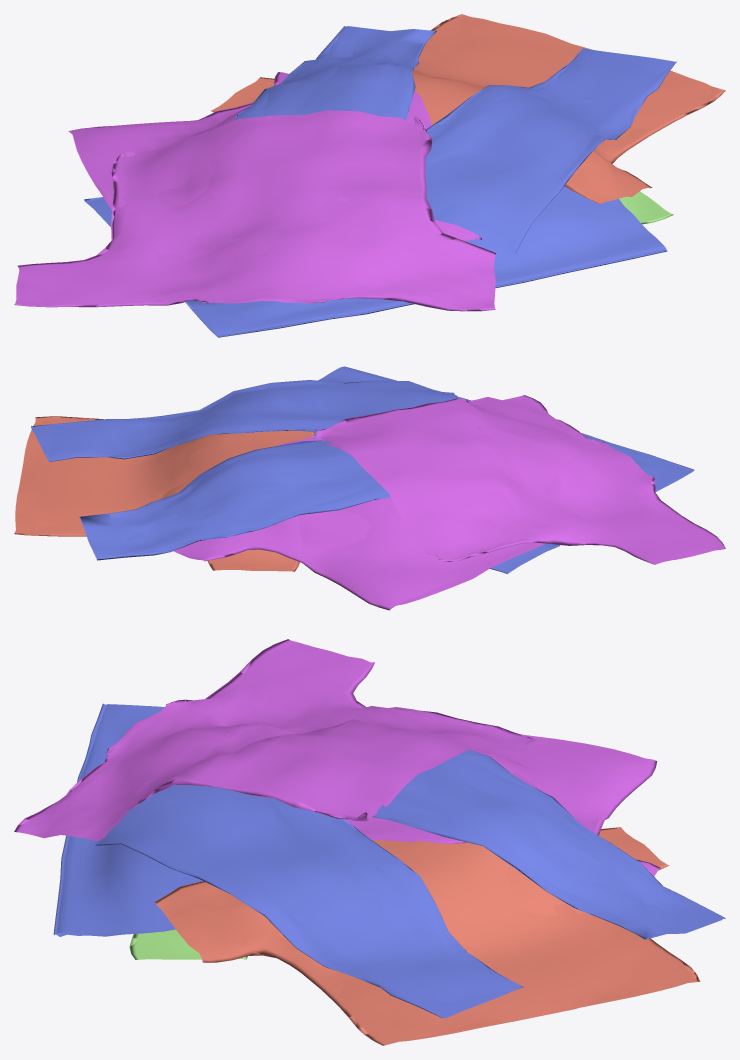
Rendered from pileOfClothes.fbx.
3 views of the same model, one above another, from view 1: azimuth 30°, elevation 25°; view 2: azimuth 150°, elevation 25°; view 3: azimuth 270°, elevation 25° (orthographic). The views are drawn at different scales.
Parts seen in each view (by area): view 1: Cube.006, Cube.001, Cube.004, Cube.005, Cube.003, Cube; view 2: Cube.006, Cube.001, Cube.004, Cube.003, Cube.005; view 3: Cube.001, Cube.006, Cube.004, Cube.005, Cube.003, Cube.
Boxes of the visible parts, x1,y1,x2,y2 form: Cube.006: (14, 110, 496, 311); Cube.001: (235, 26, 676, 253); Cube.004: (211, 14, 725, 204); Cube.005: (84, 186, 667, 337); Cube.003: (68, 72, 481, 240); Cube: (619, 191, 673, 224); Cube.006: (316, 395, 725, 564); Cube.001: (31, 380, 459, 560); Cube.004: (14, 416, 314, 571); Cube.003: (174, 436, 545, 610); Cube.005: (313, 366, 694, 574); Cube.001: (95, 749, 725, 1018); Cube.006: (14, 639, 536, 840); Cube.004: (155, 827, 700, 1045); Cube.005: (53, 703, 203, 936); Cube.003: (346, 733, 660, 876); Cube: (129, 929, 247, 959).
Size of the model in its own units: 504 by 41.36 by 374.
